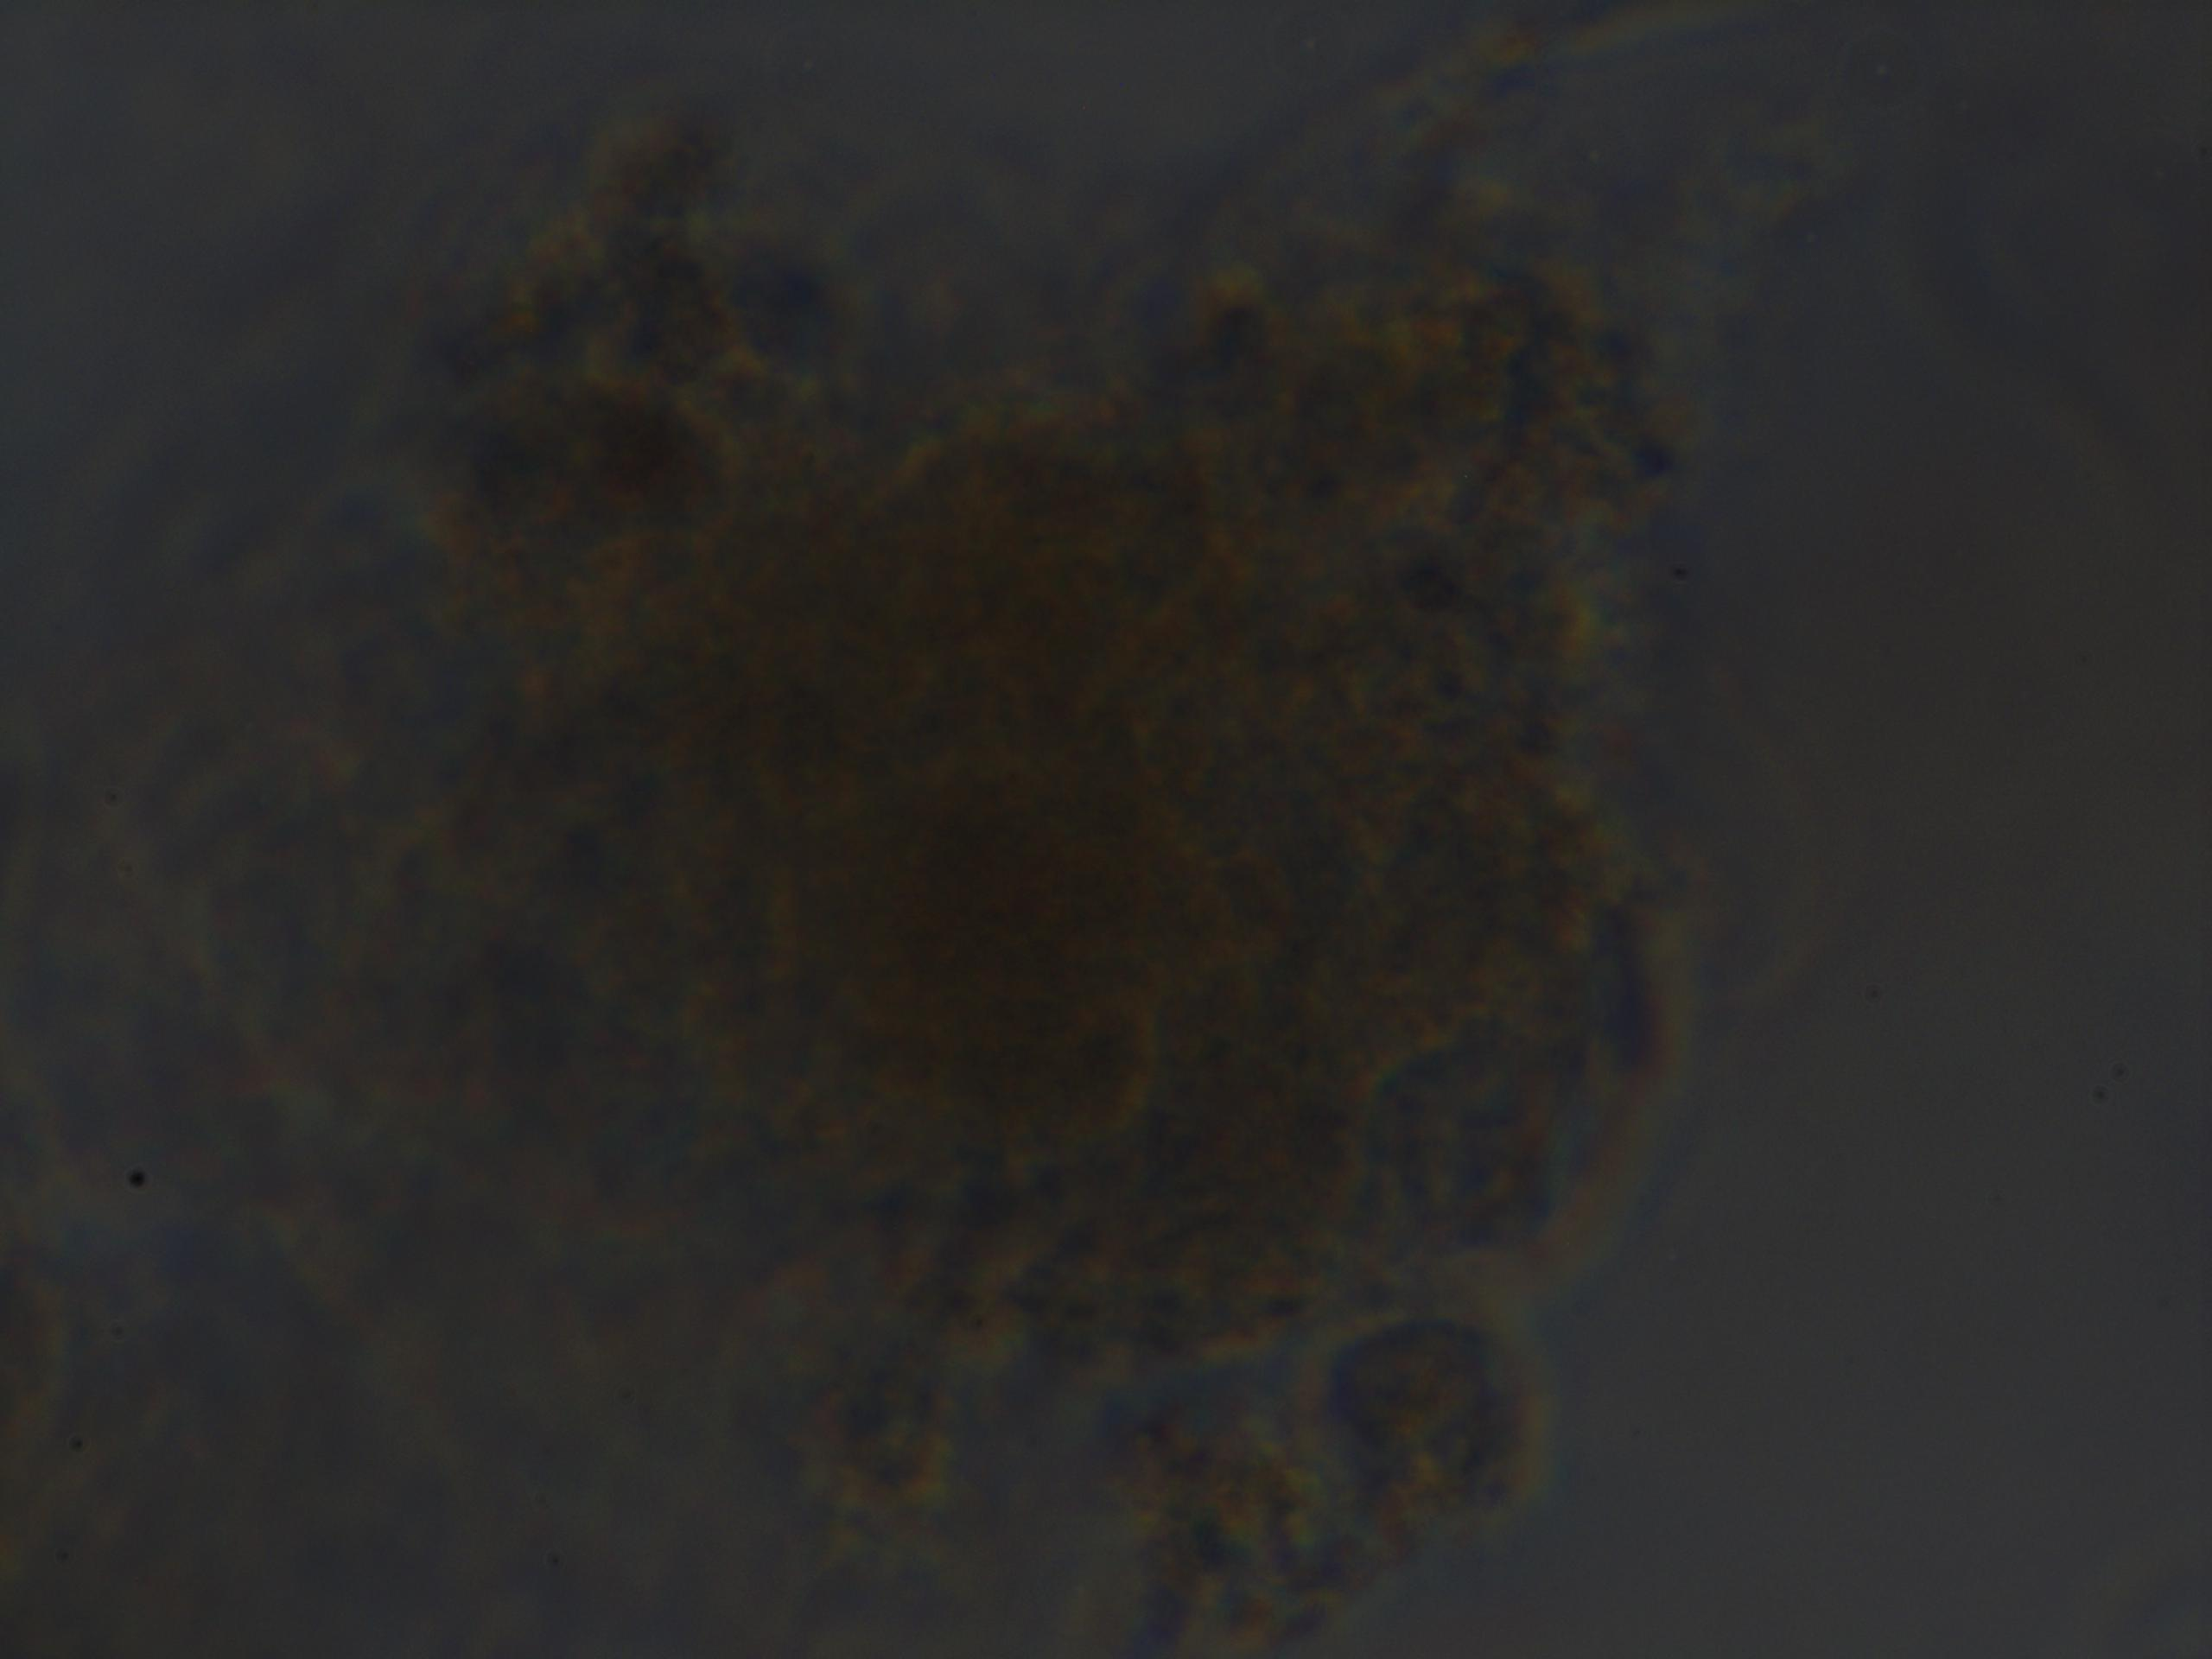spherical_floc: (441, 185, 1700, 1382)
